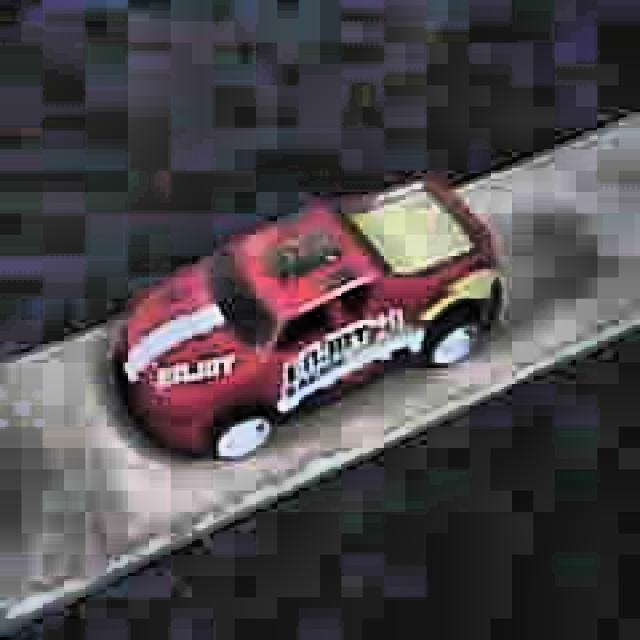car: (112, 173, 501, 464)
